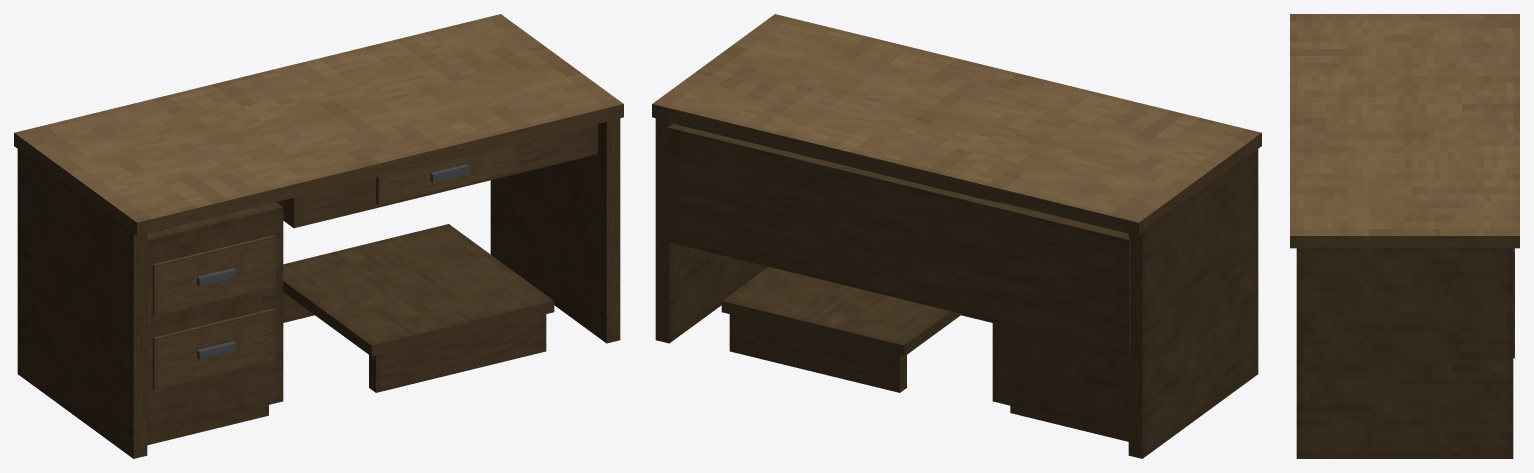
File: desk.glb
3 renders of one model, left to right at view 1: azimuth 30°, elevation 25°; view 2: azimuth 150°, elevation 25°; view 3: azimuth 270°, elevation 25°, orthographic. The views are drawn at different scales.
Parts seen in each view (by area): view 1: core_desk; view 2: core_desk; view 3: core_desk.
Boxes of the visible parts, box(x1,y1,x2,y2) form: core_desk: box(14, 14, 623, 458); core_desk: box(652, 14, 1261, 458); core_desk: box(1290, 14, 1519, 458).
Bounding box in the file's own units: 1.6 × 0.75 × 0.7.
1 material, 1 textured.
